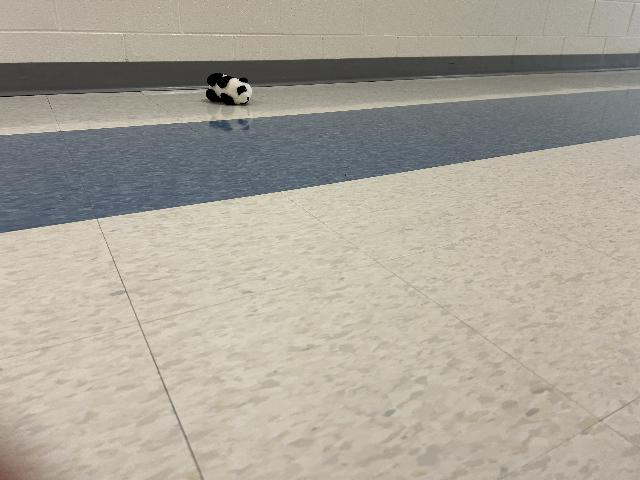panda_plushie: (206, 73, 252, 105)
